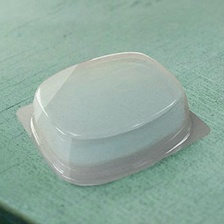plastic_box: (9, 44, 215, 195)
